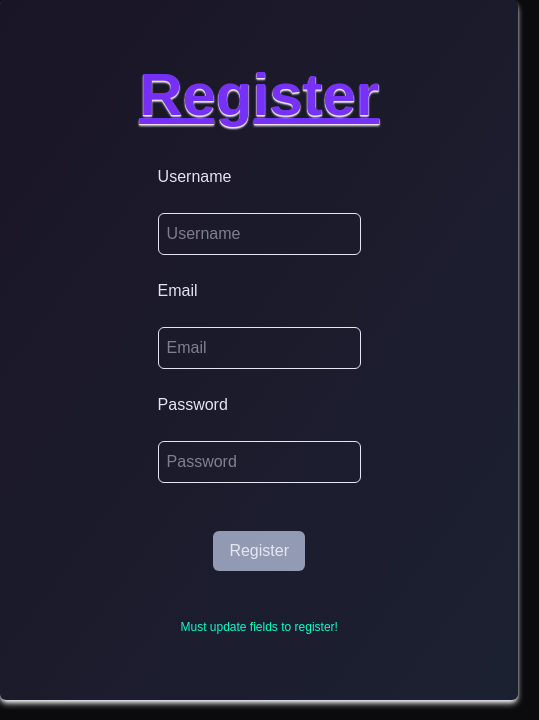
Scenario: RegisterForm › enables register button when required fields are filled
Type "nick" into the field labelled "Username". click: point(259, 234)
box: [158,213,361,255]
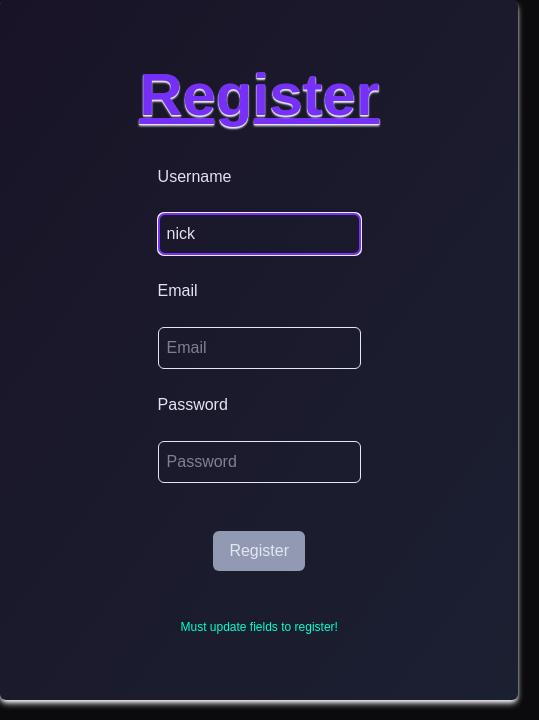
Type "password123" into the password field labelled "Password". click: point(259, 462)
box: [158,441,361,483]
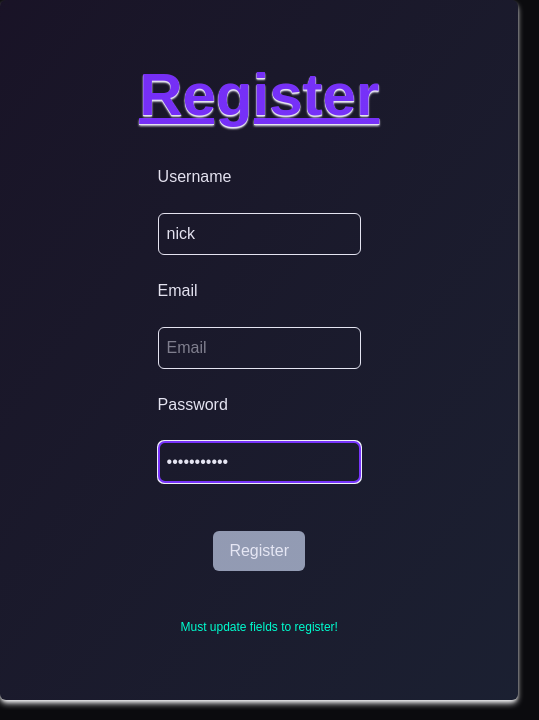
Type "nick@gmail.com" into the field labelled "Email". click: point(259, 348)
box: [158,327,361,369]
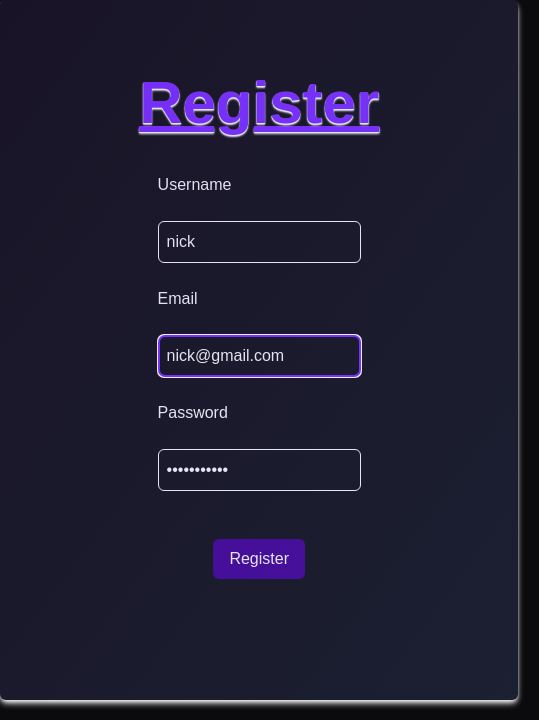
Expected: the button "Register" is enabled, [213,539,305,579]
